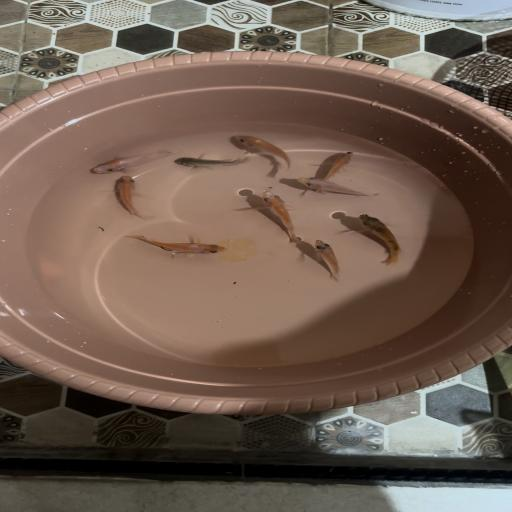nila: (348, 214, 409, 266), (250, 188, 303, 244), (125, 231, 227, 260), (83, 146, 179, 176), (228, 133, 298, 171), (109, 174, 157, 222), (297, 176, 385, 201), (313, 144, 356, 191), (303, 238, 347, 282), (171, 154, 260, 170)
